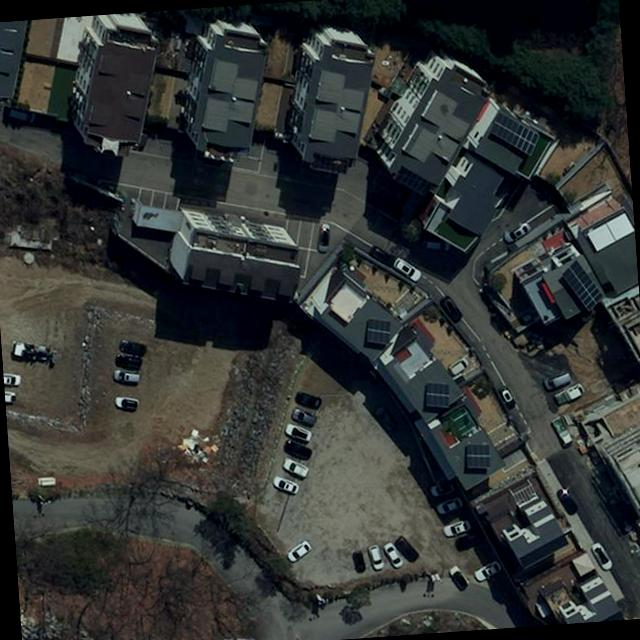solar: (488, 106, 542, 162), (558, 257, 606, 314), (422, 380, 452, 412), (363, 317, 393, 348), (465, 442, 492, 472)
